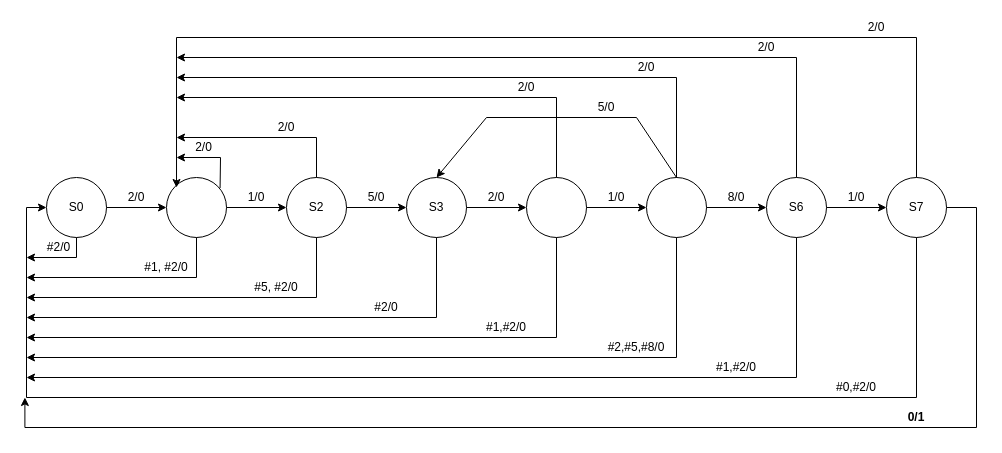
The diagram is 1002 pixels wide and 453 high, and some of its shapes have lost their labels. Each missing label, with the box of its shape:
S1: (166, 176, 226, 238)
S4: (526, 176, 586, 238)
S5: (646, 176, 706, 238)
